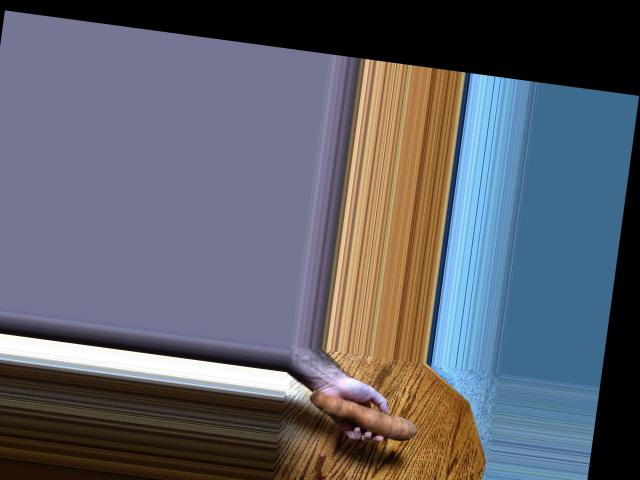sweet_potato: (311, 387, 426, 449)
